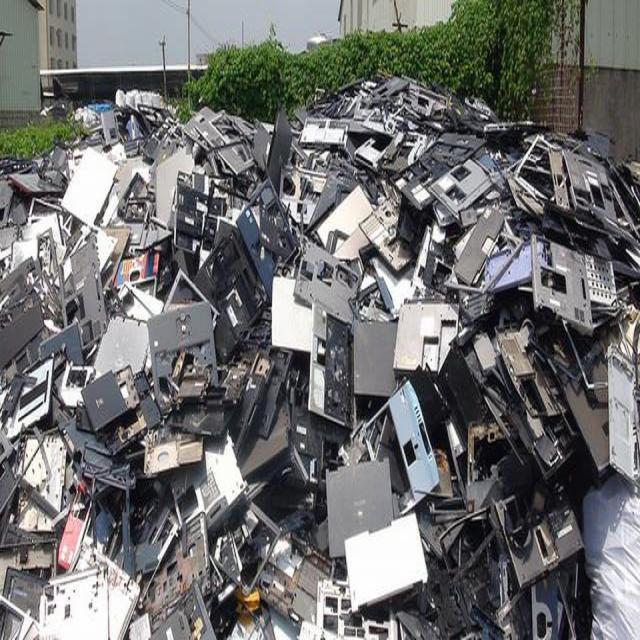hazard: (0, 76, 633, 640)
